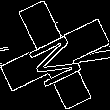M_NE: (22, 23, 88, 87)
